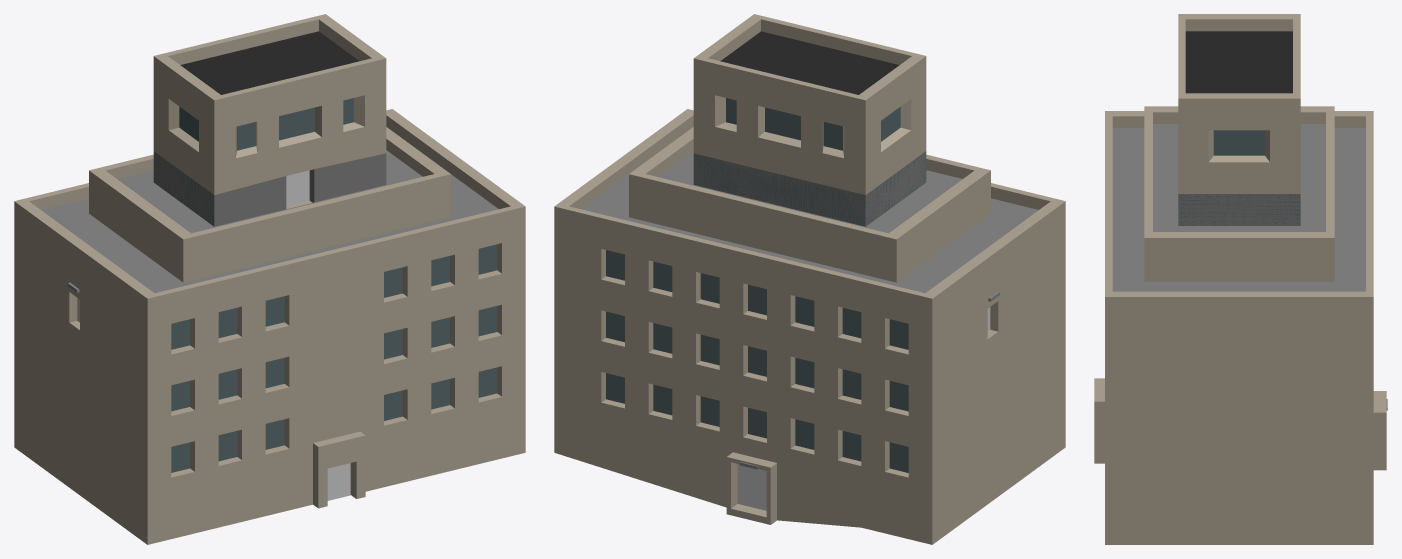
Rendered from helipuerto1.dae.
3 views of the same model, side by side, from view 1: azimuth 30°, elevation 25°; view 2: azimuth 150°, elevation 25°; view 3: azimuth 270°, elevation 25° (orthographic).
Visible parts, largest first — view 1: cube_128; view 2: cube_128; view 3: cube_128.
Part boxes in pixels (x1,y1,x2,y2): cube_128: (14, 14, 525, 544); cube_128: (554, 14, 1065, 544); cube_128: (1094, 14, 1387, 544).
Size of the model in its own units: 360 by 239 by 367.
